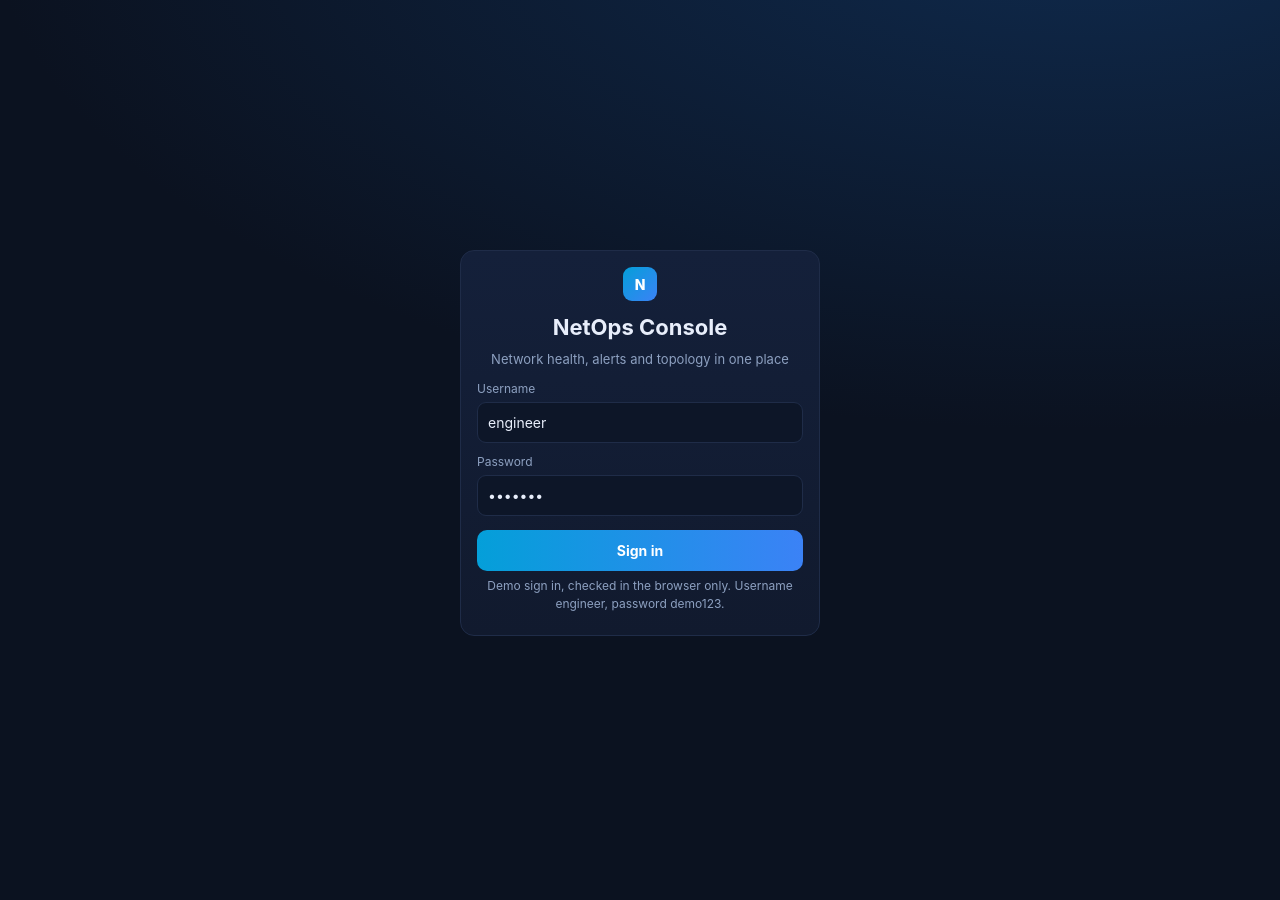
Test: App › shows the overview with summary, chart and topology after sign in
The width and height of the screenshot is (1280, 900).
Click the button "Sign in".
click(640, 550)  # box 477,530 -> 803,571
(page scrolled)
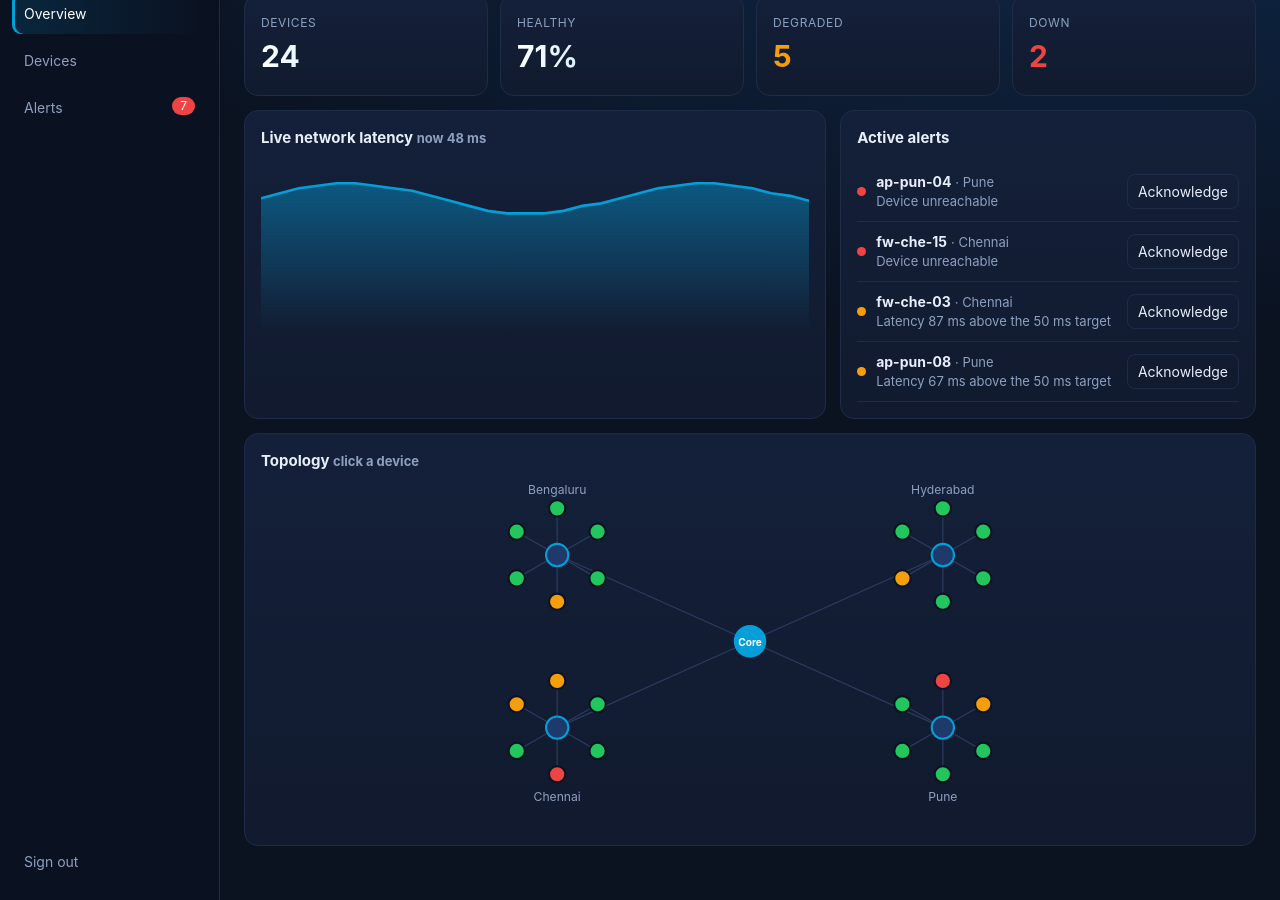
Result: the text "71%" is shown at 517,34 -> 727,79
Result: the picture named "average network latency" is shown at 261,162 -> 809,332
Result: the icon named "network topology" is shown at 261,484 -> 1239,824
